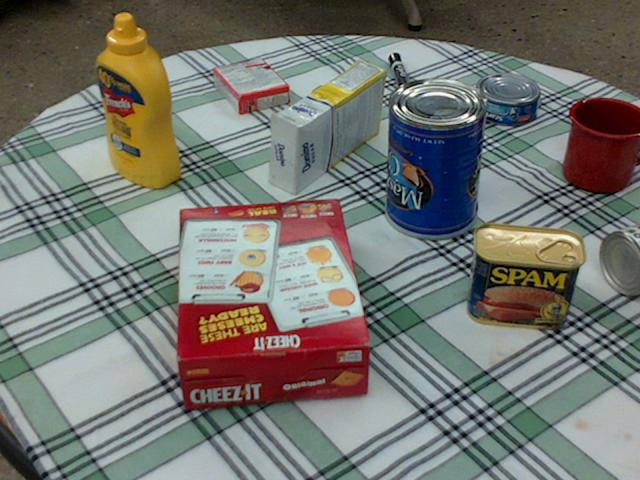cracker_box: (175, 199, 371, 410)
gelatin_box: (213, 59, 288, 113)
large_marker: (389, 52, 414, 102)
master_chef_can: (383, 77, 489, 237)
mug: (563, 98, 639, 193)
mustard_bottle: (96, 13, 178, 186)
potted_meat_can: (466, 223, 584, 328)
sugar_box: (270, 60, 385, 194)
tomato_soup_can: (600, 223, 639, 293)
tuna_fish_can: (473, 73, 540, 125)
